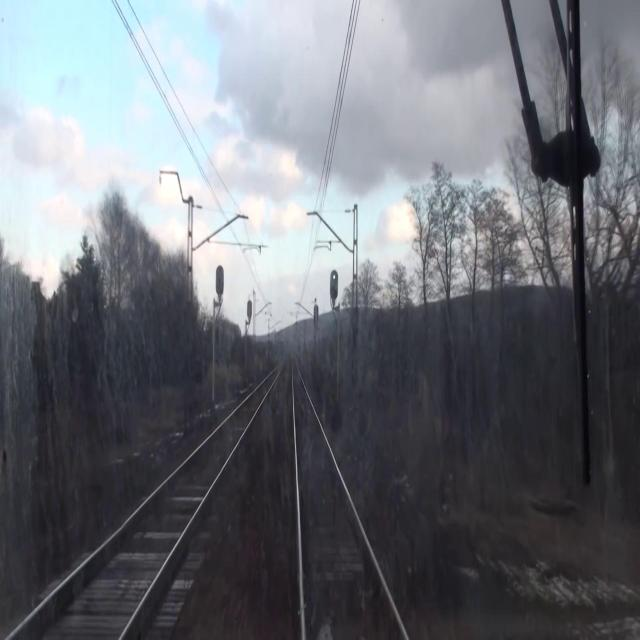rail-track: (12, 370, 278, 639), (294, 363, 403, 639)
